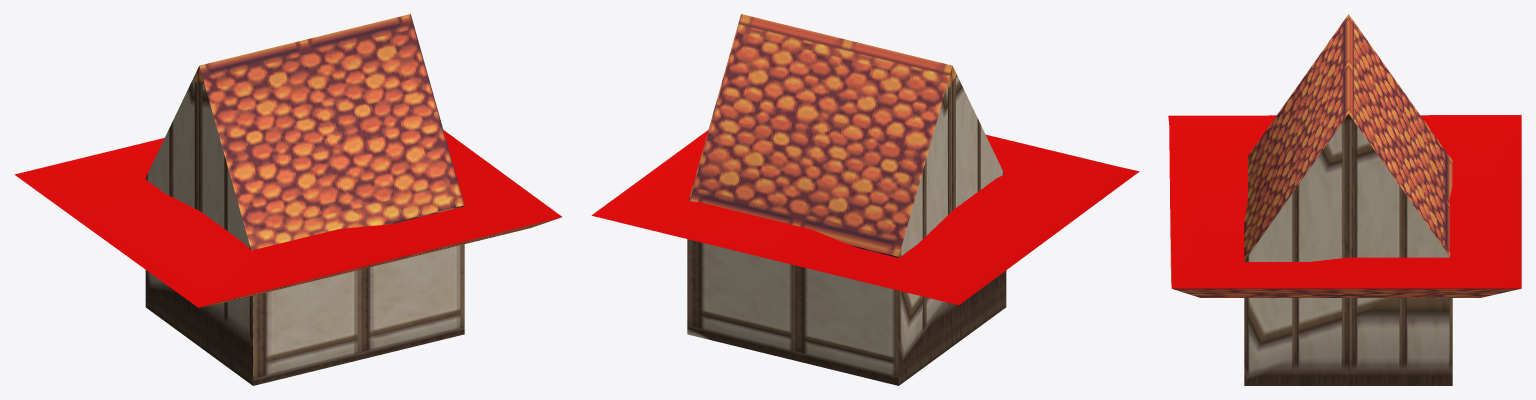
File: buildings.FBX
3 views of the same model, side by side, from view 1: azimuth 30°, elevation 25°; view 2: azimuth 150°, elevation 25°; view 3: azimuth 270°, elevation 25° (orthographic). The views are drawn at different scales.
Parts seen in each view (by area): view 1: Box007, Box006; view 2: Box007, Box006; view 3: Box007, Box006.
Boxes of the visible parts, x1=… form: Box007: x1=145, y1=14, x2=464, y2=385; Box006: x1=14, y1=130, x2=561, y2=307; Box007: x1=687, y1=14, x2=1006, y2=385; Box006: x1=591, y1=130, x2=1139, y2=305; Box007: x1=1244, y1=14, x2=1452, y2=385; Box006: x1=1168, y1=115, x2=1521, y2=297.
Bounding box in the file's own units: 132 × 96.66 × 114.
Materials: 1 (1 with a texture image).
